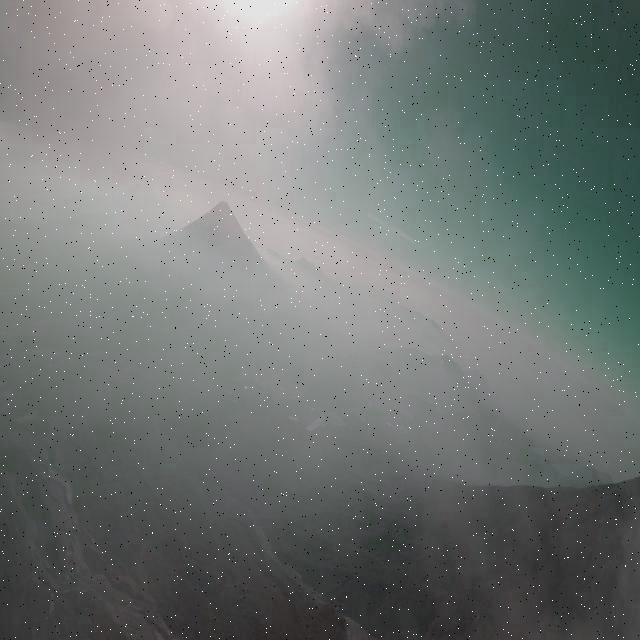Plume: (0, 3, 424, 188)
